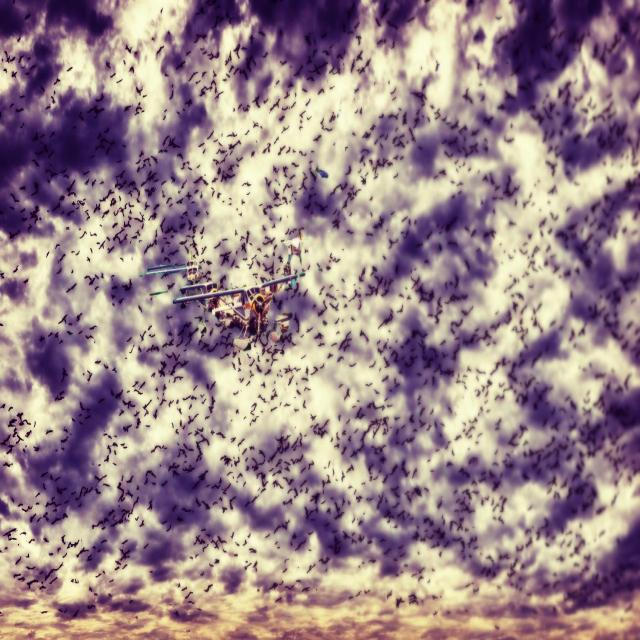airplane: (140, 232, 306, 346)
